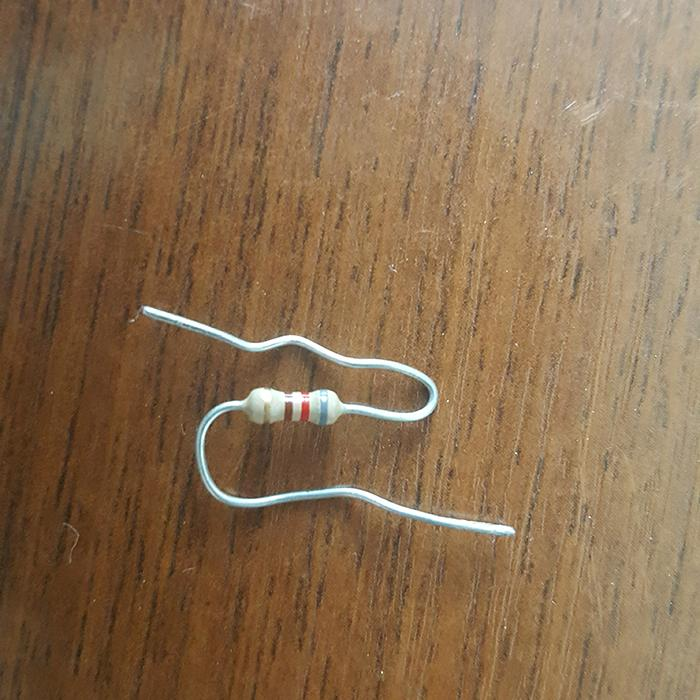resistor: (242, 386, 344, 425)
